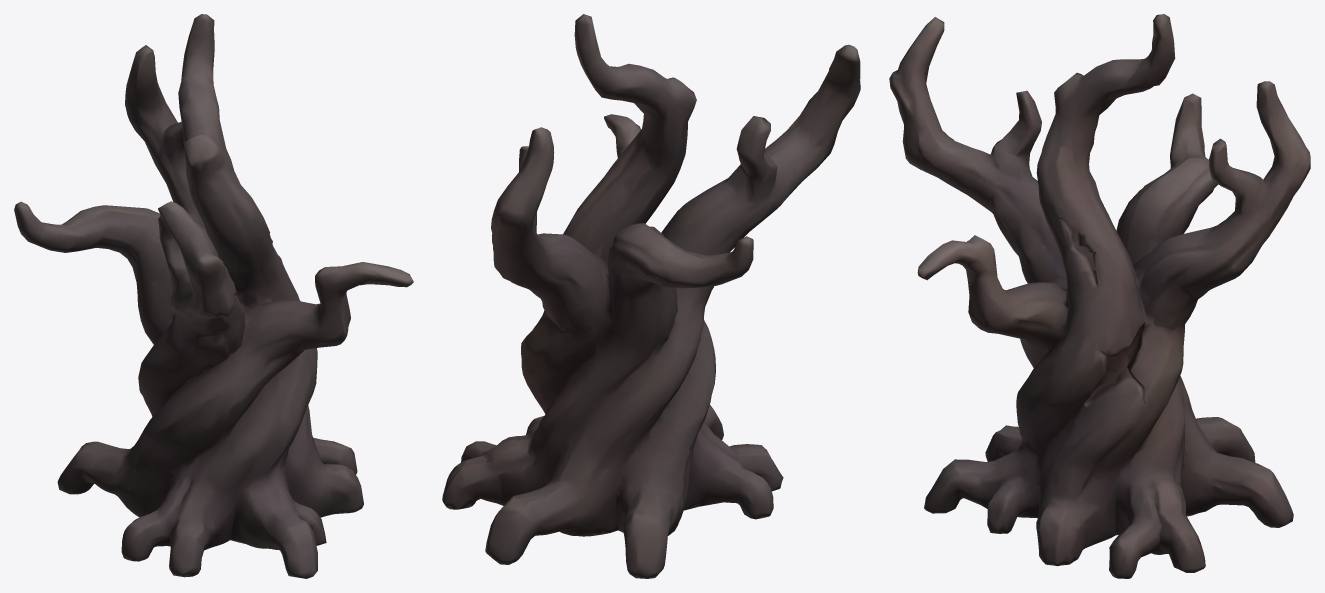
The model's file is pro_oak-BezL5ng5.glb.
3 views of the same model, side by side, from view 1: azimuth 30°, elevation 25°; view 2: azimuth 150°, elevation 25°; view 3: azimuth 270°, elevation 25° (orthographic). The views are drawn at different scales.
Parts seen in each view (by area): view 1: tripo_node_b32f2112-f422-45d7-9e4b-0e6b2a31ebc6; view 2: tripo_node_b32f2112-f422-45d7-9e4b-0e6b2a31ebc6; view 3: tripo_node_b32f2112-f422-45d7-9e4b-0e6b2a31ebc6.
Boxes of the visible parts, bbox=[...] form: tripo_node_b32f2112-f422-45d7-9e4b-0e6b2a31ebc6: bbox=[14, 14, 413, 578]; tripo_node_b32f2112-f422-45d7-9e4b-0e6b2a31ebc6: bbox=[442, 14, 860, 578]; tripo_node_b32f2112-f422-45d7-9e4b-0e6b2a31ebc6: bbox=[889, 14, 1310, 578].
Size of the model in its own units: 0.6707 by 1 by 0.7667.
Materials: 1 (1 with a texture image).
